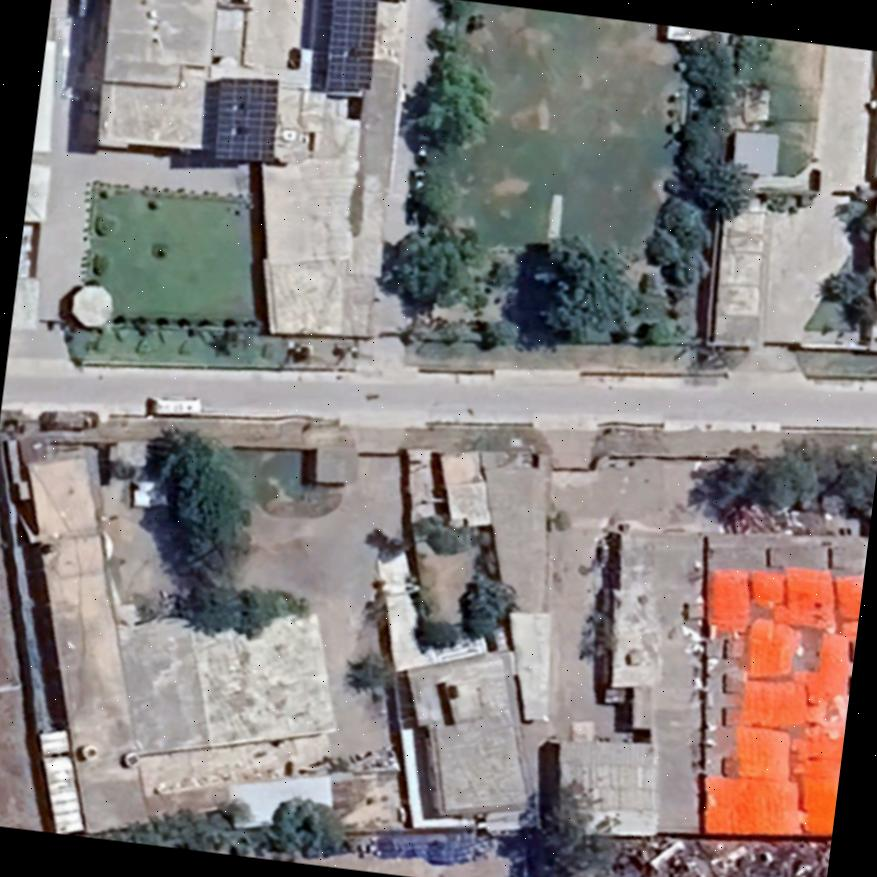Solarpanel: (204, 75, 278, 168), (317, 0, 379, 102)
